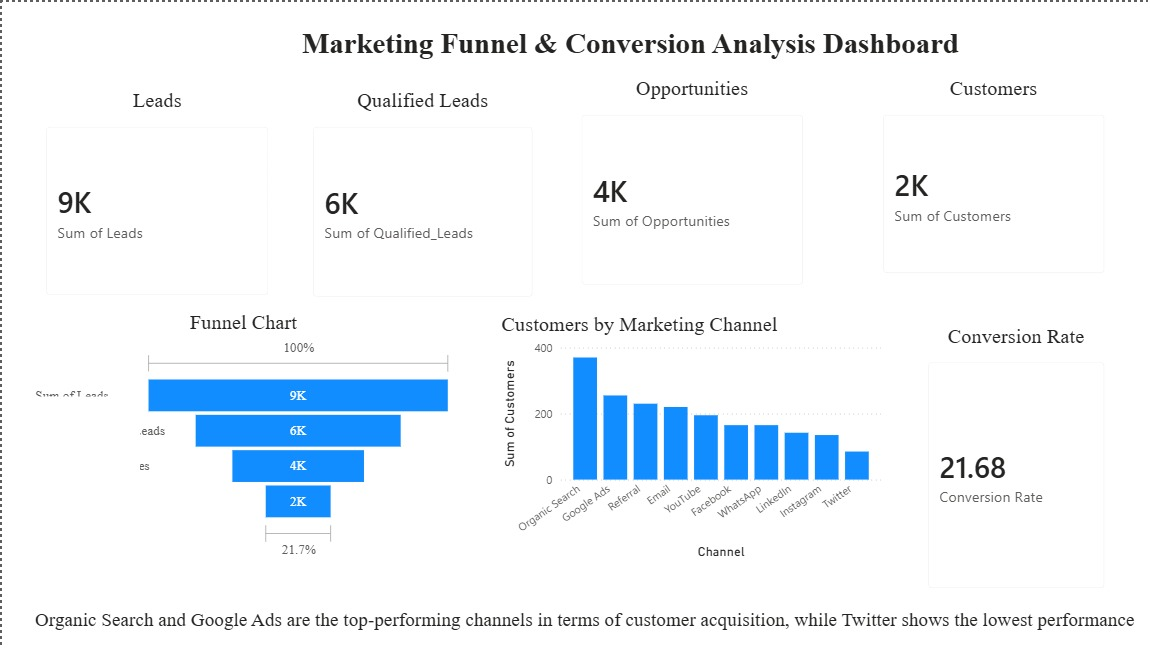

What the dashboard file says about the page in this screenshot:
{"tool":"powerbi","page":{"name":"FUTURE_DS_03_Marketing_Funnel_Dashboard","canvas":[1280,720],"ordinal":0},"visuals":[{"type":"cardVisual","title":"Leads","fields":{"Data":["Sum(Sheet1.Leads)"]},"box":[31.7,96.7,281.7,246.7],"z":0},{"type":"cardVisual","title":"Qualified Leads","fields":{"Data":["Sum(Sheet1.Qualified_Leads)"]},"box":[328.3,96.7,278.3,248.3],"z":1000},{"type":"cardVisual","title":"Opportunities","fields":{"Data":["Sum(Sheet1.Opportunities)"]},"box":[626.7,83.3,280,248.3],"z":2000},{"type":"cardVisual","title":"Customers","fields":{"Data":["Sum(Sheet1.Customers)"]},"box":[961.7,83.3,280,235],"z":3000},{"type":"funnel","title":"Funnel Chart","fields":{"Y":["Sum(Sheet1.Leads)","Sum(Sheet1.Qualified_Leads)","Sum(Sheet1.Opportunities)","Sum(Sheet1.Customers)"]},"box":[31.7,343.3,473.3,280],"z":4000},{"type":"clusteredColumnChart","title":"Customers by Marketing Channel","fields":{"Category":["Sheet1.Channel"],"Y":["Sum(Sheet1.Customers)"]},"box":[550,345,431.7,278.3],"z":5000},{"type":"cardVisual","title":"Conversion Rate","fields":{"Data":["Sheet1.Conversion Rate"]},"box":[1011.7,358.3,230,310],"z":6000},{"type":"textbox","box":[3,438,150,281],"z":7000},{"type":"textbox","box":[328.3,21.7,820,61.7],"z":8000},{"type":"textbox","box":[31.7,668.3,1248.3,51.7],"z":9000}]}

Visuals, with their boxes in screenshot pixels (x1, y1, x2, y2), scaled from the page's 1280x720 canvas onto the 1150x649 screenshot:
"Leads" cardVisual: left=28, top=87, right=282, bottom=310
"Qualified Leads" cardVisual: left=295, top=87, right=545, bottom=311
"Opportunities" cardVisual: left=563, top=75, right=815, bottom=299
"Customers" cardVisual: left=864, top=75, right=1116, bottom=287
"Funnel Chart" funnel: left=28, top=309, right=454, bottom=562
"Customers by Marketing Channel" clusteredColumnChart: left=494, top=311, right=882, bottom=562
"Conversion Rate" cardVisual: left=909, top=323, right=1116, bottom=602
textbox: left=3, top=395, right=137, bottom=648
textbox: left=295, top=20, right=1032, bottom=75
textbox: left=28, top=602, right=1149, bottom=648
